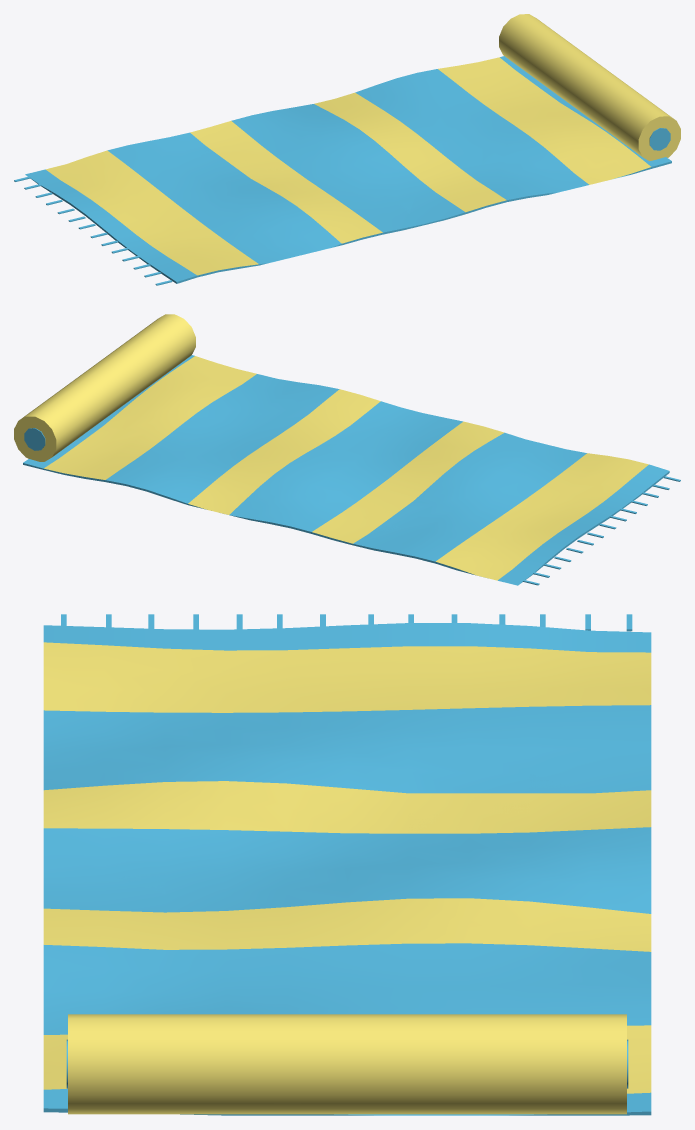
File: prop_towel.glb
The picture shows the model from 3 angles, top to bottom: view 1: azimuth 30°, elevation 25°; view 2: azimuth 150°, elevation 25°; view 3: azimuth 270°, elevation 25°; orthographic projection. The views are drawn at different scales.
Visible parts, largest first — view 1: Towel; view 2: Towel; view 3: Towel.
Boxes of the visible parts, x1=… form: Towel: x1=14, y1=14, x2=680, y2=285; Towel: x1=14, y1=314, x2=680, y2=585; Towel: x1=43, y1=614, x2=651, y2=1115.
Size of the model in its own units: 1.7 by 0.14 by 0.85.
